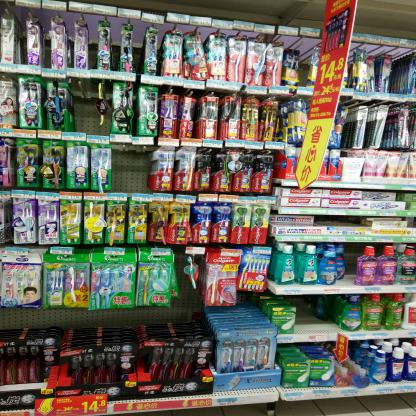Void: (116, 145, 154, 194), (70, 78, 96, 134), (297, 298, 333, 330), (316, 214, 364, 225), (344, 245, 355, 282)
